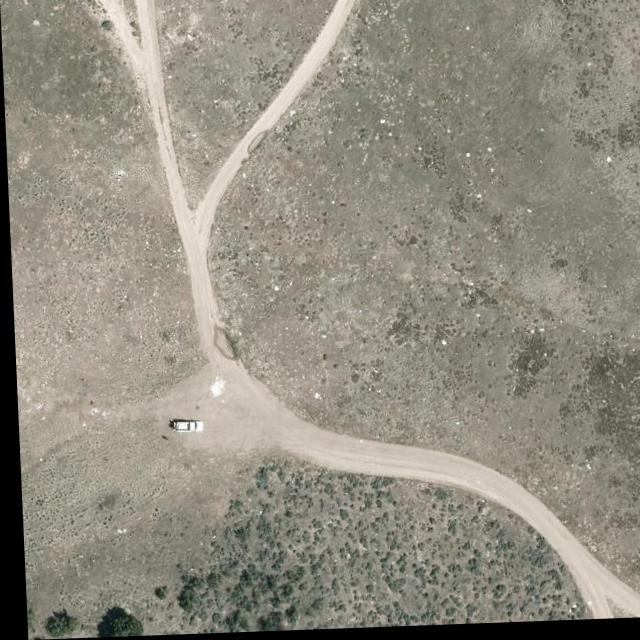vehicle: (172, 422, 200, 436)
